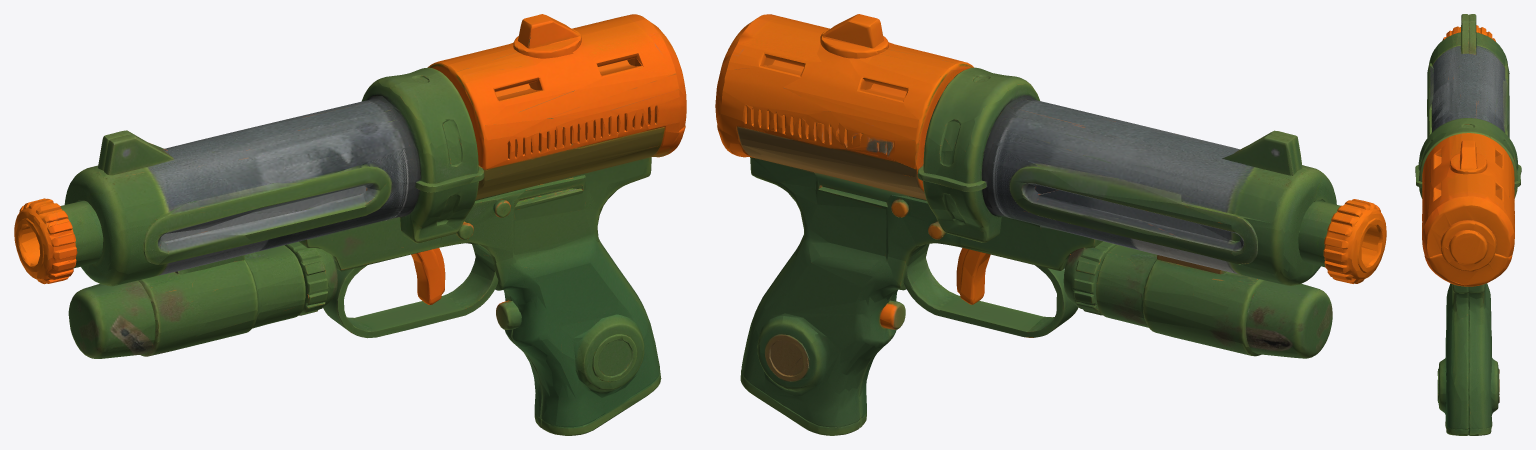
The model's file is pistola_acqua.glb.
3 renders of one model, left to right at view 1: azimuth 30°, elevation 25°; view 2: azimuth 150°, elevation 25°; view 3: azimuth 270°, elevation 25°, orthographic. The views are drawn at different scales.
Size of the model in its own units: 1.9 by 1.17 by 0.4102.
1 material, 1 textured.
